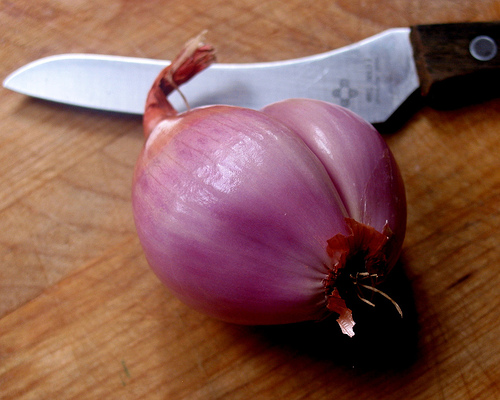onion: (130, 27, 410, 341)
